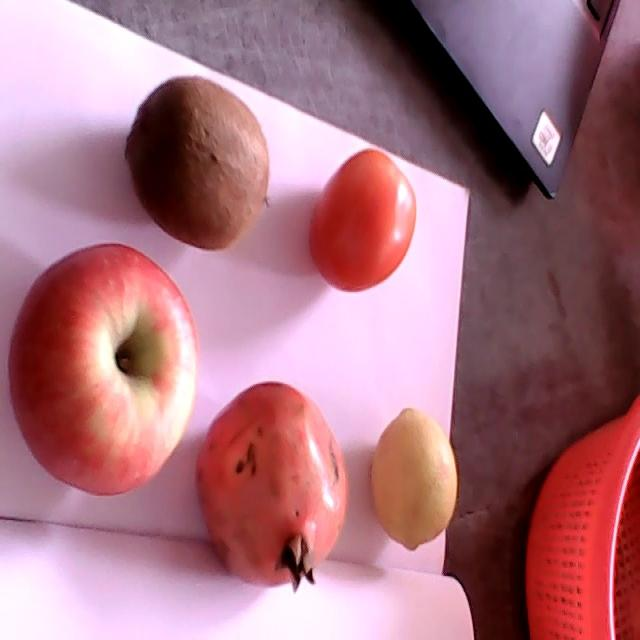apple: (8, 243, 198, 496)
kiwi: (125, 77, 271, 248)
lemon: (371, 407, 459, 550)
pomegranate: (195, 382, 348, 594)
tomato: (308, 149, 417, 289)
